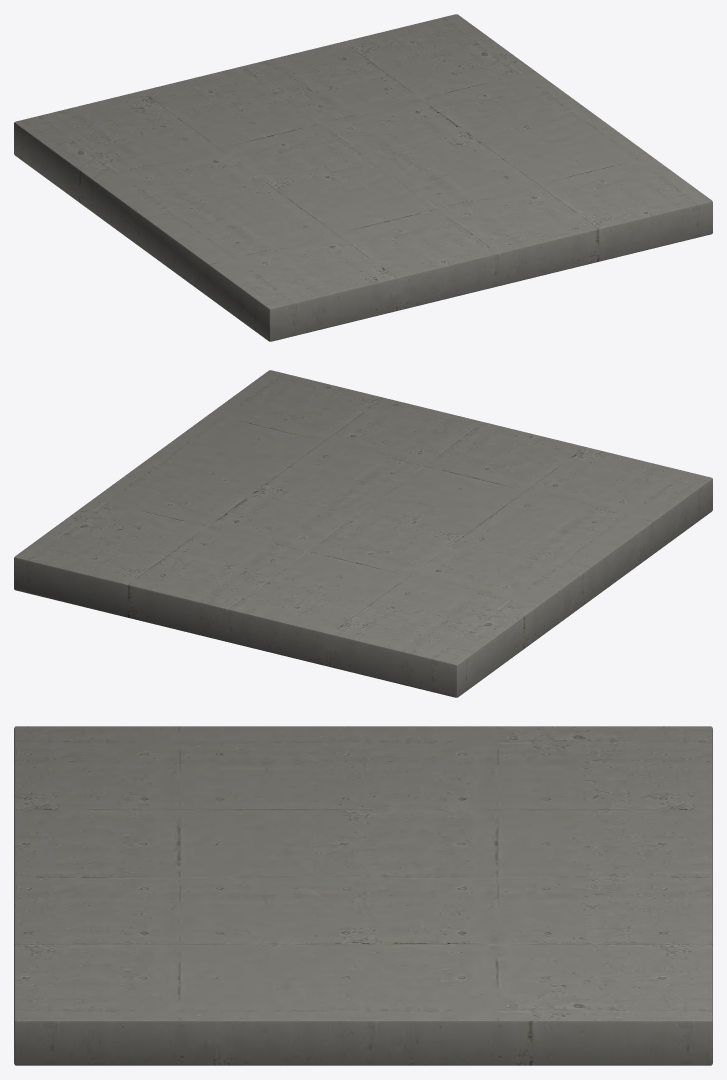
Rendered from PIS-CTP-002_anim.glb.
The picture shows the model from 3 angles, top to bottom: view 1: azimuth 30°, elevation 25°; view 2: azimuth 150°, elevation 25°; view 3: azimuth 270°, elevation 25°; orthographic projection. The views are drawn at different scales.
Parts seen in each view (by area): view 1: PIS-CTP-002_anim0; view 2: PIS-CTP-002_anim0; view 3: PIS-CTP-002_anim0.
Boxes of the visible parts, x1,y1,x2,y2 form: PIS-CTP-002_anim0: (14, 14, 712, 341); PIS-CTP-002_anim0: (14, 370, 712, 697); PIS-CTP-002_anim0: (14, 726, 712, 1065).
Bounding box in the file's own units: 1.1 × 0.08 × 1.1.
2 materials, 2 textured.
